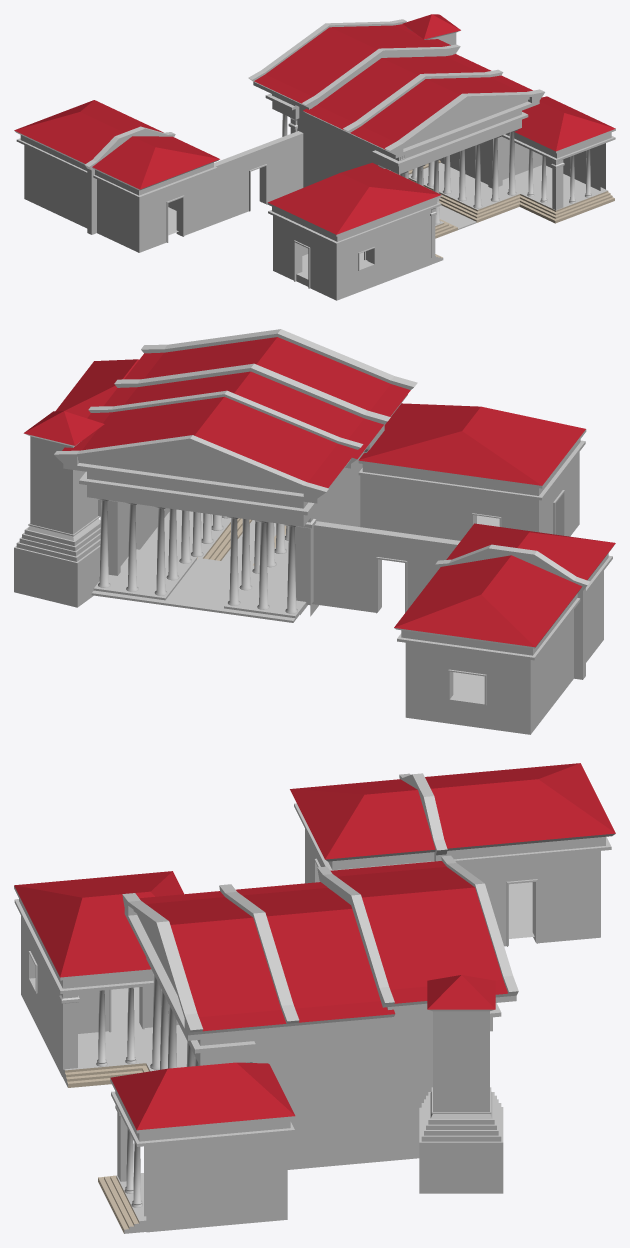
The picture shows the model from 3 angles, top to bottom: view 1: azimuth 30°, elevation 25°; view 2: azimuth 150°, elevation 25°; view 3: azimuth 270°, elevation 25°; orthographic projection. The views are drawn at different scales.
Visible parts, largest first — view 1: Plane_001, Plane, Plane_003, Plane_008, Plane_004, Plane_005, Cube_001, Plane_006, Plane_002, Cube, Cube_004, Cube_016 (+3 smaller); view 2: Plane_001, Plane_004, Plane_003, Plane_008, Plane_005, Plane, Cube, Cube_001, Plane_002, Plane_006, Cube_018, Cube_019 (+9 smaller); view 3: Plane, Plane_003, Plane_008, Plane_004, Cube, Plane_005, Plane_006, Plane_001, Cube_001, Plane_002, Plane_009, Cube_014 (+2 smaller).
Boxes of the visible parts, x1,y1,x2,y2 form: Plane_001: (24,126,303,252); Plane: (273,107,605,300); Plane_003: (303,54,544,158); Plane_008: (14,100,219,198); Plane_004: (248,19,460,109); Plane_005: (267,162,441,245); Cube_001: (296,160,614,286); Plane_006: (501,96,615,161); Plane_002: (265,93,528,174); Cube: (402,14,460,53); Cube_004: (551,159,564,209); Cube_016: (488,136,502,188); Plane_001: (312,521,603,734); Plane_004: (54,390,363,503); Plane_003: (104,329,417,468); Plane_008: (394,523,615,660); Plane_005: (358,403,586,500); Plane: (98,452,579,616); Cube: (14,411,104,607); Cube_001: (91,509,499,622); Plane_002: (79,425,384,526); Plane_006: (55,359,138,418); Cube_018: (295,514,316,605); Cube_019: (100,500,120,575); Plane: (21,916,432,1232); Plane_003: (122,882,395,1040); Plane_008: (290,763,615,870); Plane_004: (317,855,518,1011); Cube: (419,975,503,1193); Plane_005: (14,871,183,993); Plane_006: (110,1062,295,1146); Plane_001: (305,773,600,946); Cube_001: (62,987,187,1233); Plane_002: (146,958,501,1065); Plane_009: (509,882,534,938); Cube_014: (59,992,79,1069).
Bounding box in the file's own units: 132 × 37.6 × 94.9.
